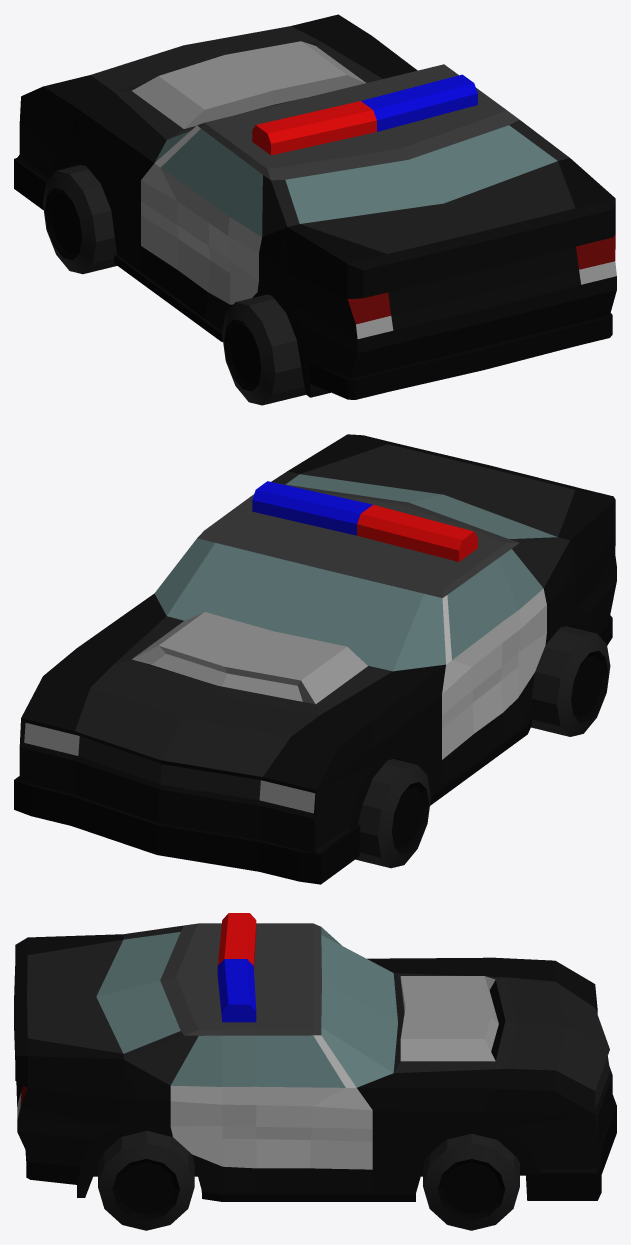
File: wholecruiser1.fbx
The picture shows the model from 3 angles, top to bottom: view 1: azimuth 30°, elevation 25°; view 2: azimuth 150°, elevation 25°; view 3: azimuth 270°, elevation 25°; orthographic projection. The views are drawn at different scales.
Visible parts, largest first — view 1: Chassis2, Wheel4, Wheel3; view 2: Chassis2, Wheel4, Wheel3; view 3: Chassis2, Wheel2, Wheel1.
Boxes of the visible parts, x1=… form: Chassis2: x1=14, y1=14, x2=616, y2=399; Wheel4: x1=222, y1=294, x2=305, y2=405; Wheel3: x1=43, y1=165, x2=117, y2=274; Chassis2: x1=14, y1=434, x2=616, y2=884; Wheel4: x1=529, y1=626, x2=610, y2=736; Wheel3: x1=355, y1=759, x2=430, y2=868; Chassis2: x1=14, y1=913, x2=616, y2=1201; Wheel2: x1=98, y1=1131, x2=194, y2=1230; Wheel1: x1=423, y1=1133, x2=519, y2=1230.
Size of the model in its own units: 10.01 by 6.12 by 16.77.
